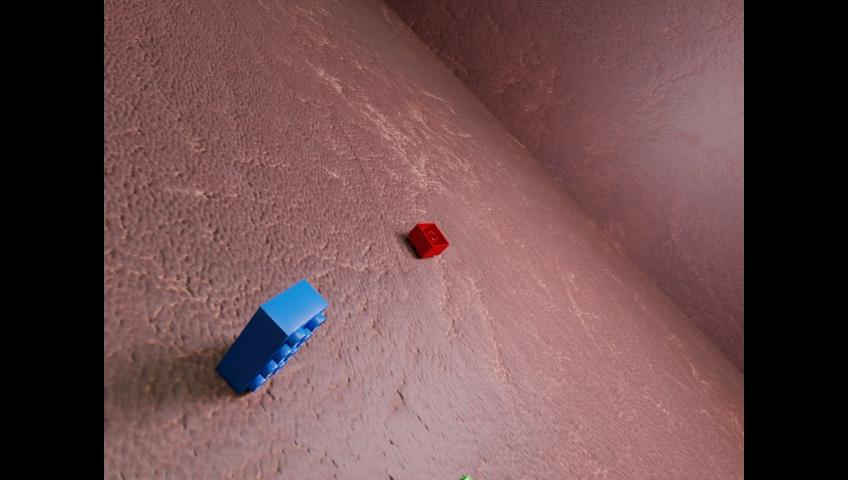2x2_red: (407, 222, 448, 257)
4x2_blue: (214, 278, 328, 394)
